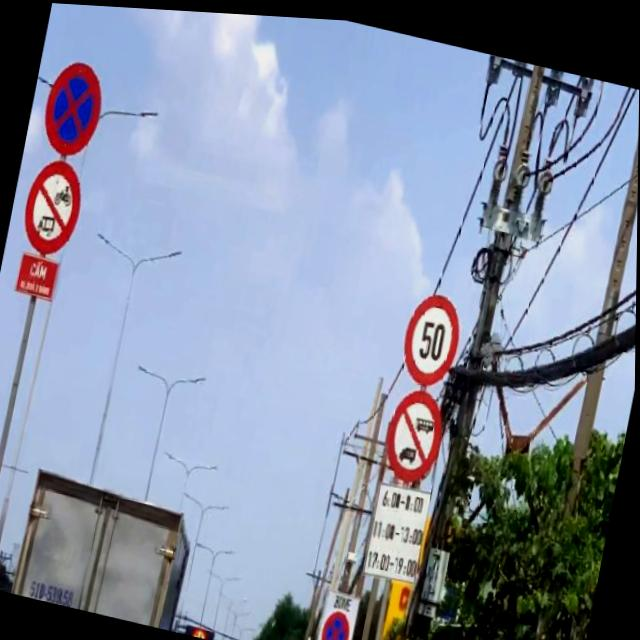Cam dung xe va do xe: (37, 54, 108, 162), (320, 603, 354, 640)
Toc do toi da cho phep: (397, 282, 467, 386)
